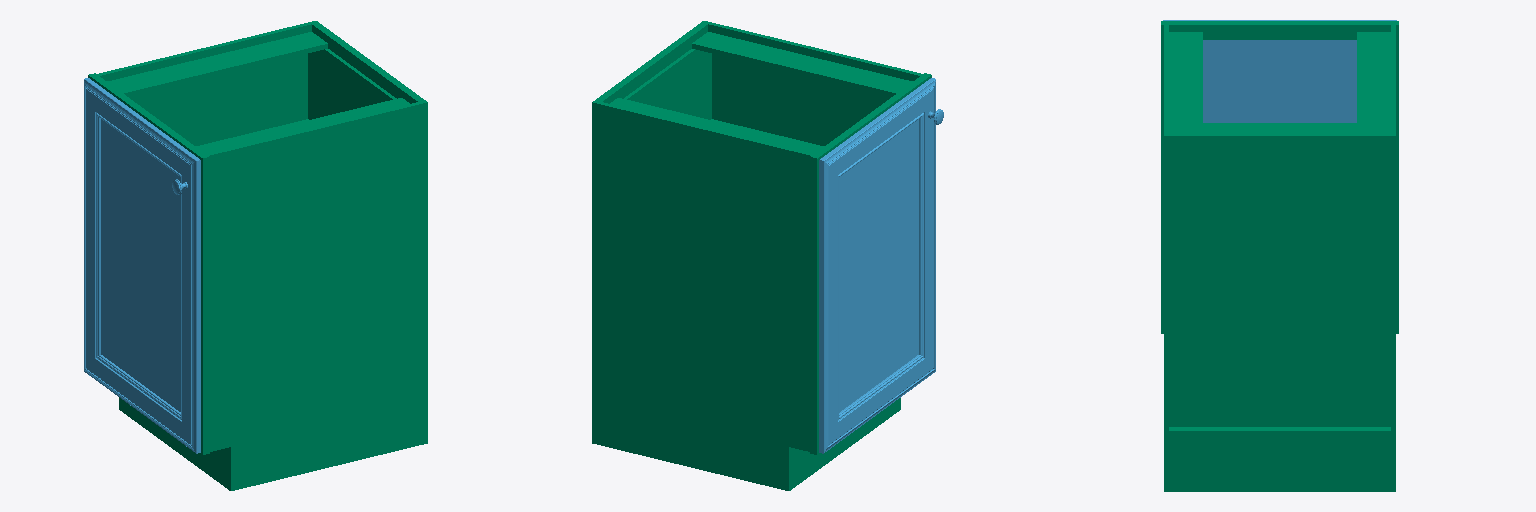
The robot description file, URDF, robot "partnet_40f90a159f03321cc59350d819542ec7":
<?xml version="1.0" ?>
<robot name="partnet_40f90a159f03321cc59350d819542ec7">
	<link name="base"/>
	<link name="link_0">
		<visual name="cabinet_door_surface-5">
			<origin xyz="0.46349359667398565 -0.696201980113983 -0.5270473939009045"/>
			<geometry>
				<mesh filename="textured_objs/original-33.obj"/>
			</geometry>
		</visual>
		<visual name="cabinet_door_surface-5">
			<origin xyz="0.46349359667398565 -0.696201980113983 -0.5270473939009045"/>
			<geometry>
				<mesh filename="textured_objs/original-28.obj"/>
			</geometry>
		</visual>
		<visual name="cabinet_door_surface-5">
			<origin xyz="0.46349359667398565 -0.696201980113983 -0.5270473939009045"/>
			<geometry>
				<mesh filename="textured_objs/original-24.obj"/>
			</geometry>
		</visual>
		<visual name="cabinet_door_surface-5">
			<origin xyz="0.46349359667398565 -0.696201980113983 -0.5270473939009045"/>
			<geometry>
				<mesh filename="textured_objs/original-30.obj"/>
			</geometry>
		</visual>
		<visual name="cabinet_door_surface-5">
			<origin xyz="0.46349359667398565 -0.696201980113983 -0.5270473939009045"/>
			<geometry>
				<mesh filename="textured_objs/original-27.obj"/>
			</geometry>
		</visual>
		<visual name="cabinet_door_surface-5">
			<origin xyz="0.46349359667398565 -0.696201980113983 -0.5270473939009045"/>
			<geometry>
				<mesh filename="textured_objs/original-29.obj"/>
			</geometry>
		</visual>
		<visual name="cabinet_door_surface-5">
			<origin xyz="0.46349359667398565 -0.696201980113983 -0.5270473939009045"/>
			<geometry>
				<mesh filename="textured_objs/original-31.obj"/>
			</geometry>
		</visual>
		<visual name="cabinet_door_surface-5">
			<origin xyz="0.46349359667398565 -0.696201980113983 -0.5270473939009045"/>
			<geometry>
				<mesh filename="textured_objs/original-25.obj"/>
			</geometry>
		</visual>
		<visual name="cabinet_door_surface-5">
			<origin xyz="0.46349359667398565 -0.696201980113983 -0.5270473939009045"/>
			<geometry>
				<mesh filename="textured_objs/original-26.obj"/>
			</geometry>
		</visual>
		<visual name="cabinet_door_surface-5">
			<origin xyz="0.46349359667398565 -0.696201980113983 -0.5270473939009045"/>
			<geometry>
				<mesh filename="textured_objs/original-34.obj"/>
			</geometry>
		</visual>
		<visual name="handle-6">
			<origin xyz="0.46349359667398565 -0.696201980113983 -0.5270473939009045"/>
			<geometry>
				<mesh filename="textured_objs/original-35.obj"/>
			</geometry>
		</visual>
		<collision>
			<origin xyz="0.46349359667398565 -0.696201980113983 -0.5270473939009045"/>
			<geometry>
				<mesh filename="textured_objs/original-33.obj"/>
			</geometry>
		</collision>
		<collision>
			<origin xyz="0.46349359667398565 -0.696201980113983 -0.5270473939009045"/>
			<geometry>
				<mesh filename="textured_objs/original-28.obj"/>
			</geometry>
		</collision>
		<collision>
			<origin xyz="0.46349359667398565 -0.696201980113983 -0.5270473939009045"/>
			<geometry>
				<mesh filename="textured_objs/original-24.obj"/>
			</geometry>
		</collision>
		<collision>
			<origin xyz="0.46349359667398565 -0.696201980113983 -0.5270473939009045"/>
			<geometry>
				<mesh filename="textured_objs/original-30.obj"/>
			</geometry>
		</collision>
		<collision>
			<origin xyz="0.46349359667398565 -0.696201980113983 -0.5270473939009045"/>
			<geometry>
				<mesh filename="textured_objs/original-27.obj"/>
			</geometry>
		</collision>
		<collision>
			<origin xyz="0.46349359667398565 -0.696201980113983 -0.5270473939009045"/>
			<geometry>
				<mesh filename="textured_objs/original-29.obj"/>
			</geometry>
		</collision>
		<collision>
			<origin xyz="0.46349359667398565 -0.696201980113983 -0.5270473939009045"/>
			<geometry>
				<mesh filename="textured_objs/original-31.obj"/>
			</geometry>
		</collision>
		<collision>
			<origin xyz="0.46349359667398565 -0.696201980113983 -0.5270473939009045"/>
			<geometry>
				<mesh filename="textured_objs/original-25.obj"/>
			</geometry>
		</collision>
		<collision>
			<origin xyz="0.46349359667398565 -0.696201980113983 -0.5270473939009045"/>
			<geometry>
				<mesh filename="textured_objs/original-26.obj"/>
			</geometry>
		</collision>
		<collision>
			<origin xyz="0.46349359667398565 -0.696201980113983 -0.5270473939009045"/>
			<geometry>
				<mesh filename="textured_objs/original-34.obj"/>
			</geometry>
		</collision>
		<collision>
			<origin xyz="0.46349359667398565 -0.696201980113983 -0.5270473939009045"/>
			<geometry>
				<mesh filename="textured_objs/original-35.obj"/>
			</geometry>
		</collision>
	</link>
	<joint name="joint_0" type="revolute">
		<origin xyz="-0.46349359667398565 0.696201980113983 0.5270473939009045"/>
		<axis xyz="0 -1 0"/>
		<child link="link_0"/>
		<parent link="link_1"/>
		<limit lower="-0.0" upper="1.7453292519943295"/>
	</joint>
	<link name="link_1">
		<visual name="shelf-26">
			<origin xyz="0 0 0"/>
			<geometry>
				<mesh filename="textured_objs/original-2.obj"/>
			</geometry>
		</visual>
		<visual name="shelf-27">
			<origin xyz="0 0 0"/>
			<geometry>
				<mesh filename="textured_objs/original-22.obj"/>
			</geometry>
		</visual>
		<visual name="frame_vertical_bar-17">
			<origin xyz="0 0 0"/>
			<geometry>
				<mesh filename="textured_objs/original-4.obj"/>
			</geometry>
		</visual>
		<visual name="frame_vertical_bar-18">
			<origin xyz="0 0 0"/>
			<geometry>
				<mesh filename="textured_objs/original-8.obj"/>
			</geometry>
		</visual>
		<visual name="frame_horizontal_bar-19">
			<origin xyz="0 0 0"/>
			<geometry>
				<mesh filename="textured_objs/original-21.obj"/>
			</geometry>
		</visual>
		<visual name="frame_horizontal_bar-20">
			<origin xyz="0 0 0"/>
			<geometry>
				<mesh filename="textured_objs/original-20.obj"/>
			</geometry>
		</visual>
		<visual name="frame_horizontal_bar-21">
			<origin xyz="0 0 0"/>
			<geometry>
				<mesh filename="textured_objs/original-9.obj"/>
			</geometry>
		</visual>
		<visual name="frame_horizontal_bar-22">
			<origin xyz="0 0 0"/>
			<geometry>
				<mesh filename="textured_objs/original-7.obj"/>
			</geometry>
		</visual>
		<visual name="frame_horizontal_bar-23">
			<origin xyz="0 0 0"/>
			<geometry>
				<mesh filename="textured_objs/original-5.obj"/>
			</geometry>
		</visual>
		<visual name="other_leaf-25">
			<origin xyz="0 0 0"/>
			<geometry>
				<mesh filename="textured_objs/original-36.obj"/>
			</geometry>
		</visual>
		<visual name="vertical_side_panel-28">
			<origin xyz="0 0 0"/>
			<geometry>
				<mesh filename="textured_objs/original-12.obj"/>
			</geometry>
		</visual>
		<visual name="vertical_side_panel-28">
			<origin xyz="0 0 0"/>
			<geometry>
				<mesh filename="textured_objs/original-11.obj"/>
			</geometry>
		</visual>
		<visual name="vertical_side_panel-29">
			<origin xyz="0 0 0"/>
			<geometry>
				<mesh filename="textured_objs/original-16.obj"/>
			</geometry>
		</visual>
		<visual name="vertical_side_panel-29">
			<origin xyz="0 0 0"/>
			<geometry>
				<mesh filename="textured_objs/original-15.obj"/>
			</geometry>
		</visual>
		<visual name="back_panel-30">
			<origin xyz="0 0 0"/>
			<geometry>
				<mesh filename="textured_objs/original-6.obj"/>
			</geometry>
		</visual>
		<visual name="bottom_panel-31">
			<origin xyz="0 0 0"/>
			<geometry>
				<mesh filename="textured_objs/original-3.obj"/>
			</geometry>
		</visual>
		<visual name="base_side_panel-8">
			<origin xyz="0 0 0"/>
			<geometry>
				<mesh filename="textured_objs/original-13.obj"/>
			</geometry>
		</visual>
		<visual name="base_side_panel-9">
			<origin xyz="0 0 0"/>
			<geometry>
				<mesh filename="textured_objs/original-19.obj"/>
			</geometry>
		</visual>
		<visual name="base_side_panel-10">
			<origin xyz="0 0 0"/>
			<geometry>
				<mesh filename="textured_objs/original-17.obj"/>
			</geometry>
		</visual>
		<visual name="base_side_panel-11">
			<origin xyz="0 0 0"/>
			<geometry>
				<mesh filename="textured_objs/original-18.obj"/>
			</geometry>
		</visual>
		<collision>
			<origin xyz="0 0 0"/>
			<geometry>
				<mesh filename="textured_objs/original-2.obj"/>
			</geometry>
		</collision>
		<collision>
			<origin xyz="0 0 0"/>
			<geometry>
				<mesh filename="textured_objs/original-22.obj"/>
			</geometry>
		</collision>
		<collision>
			<origin xyz="0 0 0"/>
			<geometry>
				<mesh filename="textured_objs/original-4.obj"/>
			</geometry>
		</collision>
		<collision>
			<origin xyz="0 0 0"/>
			<geometry>
				<mesh filename="textured_objs/original-8.obj"/>
			</geometry>
		</collision>
		<collision>
			<origin xyz="0 0 0"/>
			<geometry>
				<mesh filename="textured_objs/original-21.obj"/>
			</geometry>
		</collision>
		<collision>
			<origin xyz="0 0 0"/>
			<geometry>
				<mesh filename="textured_objs/original-20.obj"/>
			</geometry>
		</collision>
		<collision>
			<origin xyz="0 0 0"/>
			<geometry>
				<mesh filename="textured_objs/original-9.obj"/>
			</geometry>
		</collision>
		<collision>
			<origin xyz="0 0 0"/>
			<geometry>
				<mesh filename="textured_objs/original-7.obj"/>
			</geometry>
		</collision>
		<collision>
			<origin xyz="0 0 0"/>
			<geometry>
				<mesh filename="textured_objs/original-5.obj"/>
			</geometry>
		</collision>
		<collision>
			<origin xyz="0 0 0"/>
			<geometry>
				<mesh filename="textured_objs/original-36.obj"/>
			</geometry>
		</collision>
		<collision>
			<origin xyz="0 0 0"/>
			<geometry>
				<mesh filename="textured_objs/original-12.obj"/>
			</geometry>
		</collision>
		<collision>
			<origin xyz="0 0 0"/>
			<geometry>
				<mesh filename="textured_objs/original-11.obj"/>
			</geometry>
		</collision>
		<collision>
			<origin xyz="0 0 0"/>
			<geometry>
				<mesh filename="textured_objs/original-16.obj"/>
			</geometry>
		</collision>
		<collision>
			<origin xyz="0 0 0"/>
			<geometry>
				<mesh filename="textured_objs/original-15.obj"/>
			</geometry>
		</collision>
		<collision>
			<origin xyz="0 0 0"/>
			<geometry>
				<mesh filename="textured_objs/original-6.obj"/>
			</geometry>
		</collision>
		<collision>
			<origin xyz="0 0 0"/>
			<geometry>
				<mesh filename="textured_objs/original-3.obj"/>
			</geometry>
		</collision>
		<collision>
			<origin xyz="0 0 0"/>
			<geometry>
				<mesh filename="textured_objs/original-13.obj"/>
			</geometry>
		</collision>
		<collision>
			<origin xyz="0 0 0"/>
			<geometry>
				<mesh filename="textured_objs/original-19.obj"/>
			</geometry>
		</collision>
		<collision>
			<origin xyz="0 0 0"/>
			<geometry>
				<mesh filename="textured_objs/original-17.obj"/>
			</geometry>
		</collision>
		<collision>
			<origin xyz="0 0 0"/>
			<geometry>
				<mesh filename="textured_objs/original-18.obj"/>
			</geometry>
		</collision>
	</link>
	<joint name="joint_1" type="fixed">
		<origin rpy="1.570796326794897 0 -1.570796326794897" xyz="0 0 0"/>
		<child link="link_1"/>
		<parent link="base"/>
	</joint>
</robot>

--- Facts derived from the render (not from the file) ---
3 views of the same robot in one strip: view 1: azimuth 30°, elevation 25°; view 2: azimuth 150°, elevation 25°; view 3: azimuth 270°, elevation 25° (orthographic).
Robot: partnet_40f90a159f03321cc59350d819542ec7 — 3 links, 2 joints (1 revolute, 1 fixed); root link base; default pose: all joints at 0.
Links seen in each view (by area): view 1: link_1, link_0; view 2: link_1, link_0; view 3: link_1, link_0.
Boxes of the visible links, left/top/right/bottom form: link_1: left=88, top=21, right=427, bottom=490; link_0: left=84, top=78, right=200, bottom=453; link_1: left=592, top=21, right=931, bottom=490; link_0: left=819, top=78, right=943, bottom=453; link_1: left=1161, top=21, right=1398, bottom=491; link_0: left=1163, top=20, right=1396, bottom=122.
Bounding box of the posed robot: 1.12 × 0.9041 × 1.49 m (x, y, z).
31 mesh visuals loaded from 31 distinct referenced files (31 OBJ).
